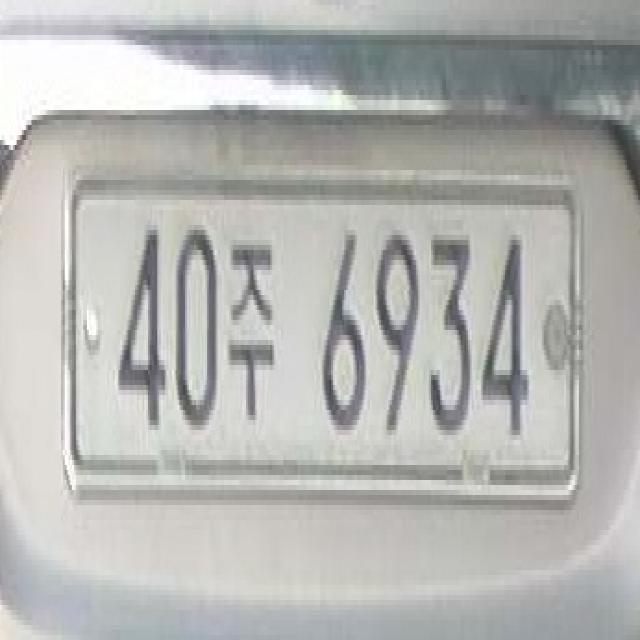0: (176, 225, 218, 435)
3: (428, 225, 473, 445)
4: (479, 230, 533, 440), (116, 220, 166, 435)
6: (320, 220, 368, 445)
9: (374, 225, 420, 435)
ju: (225, 230, 278, 425)
license_plate: (61, 165, 583, 495)
